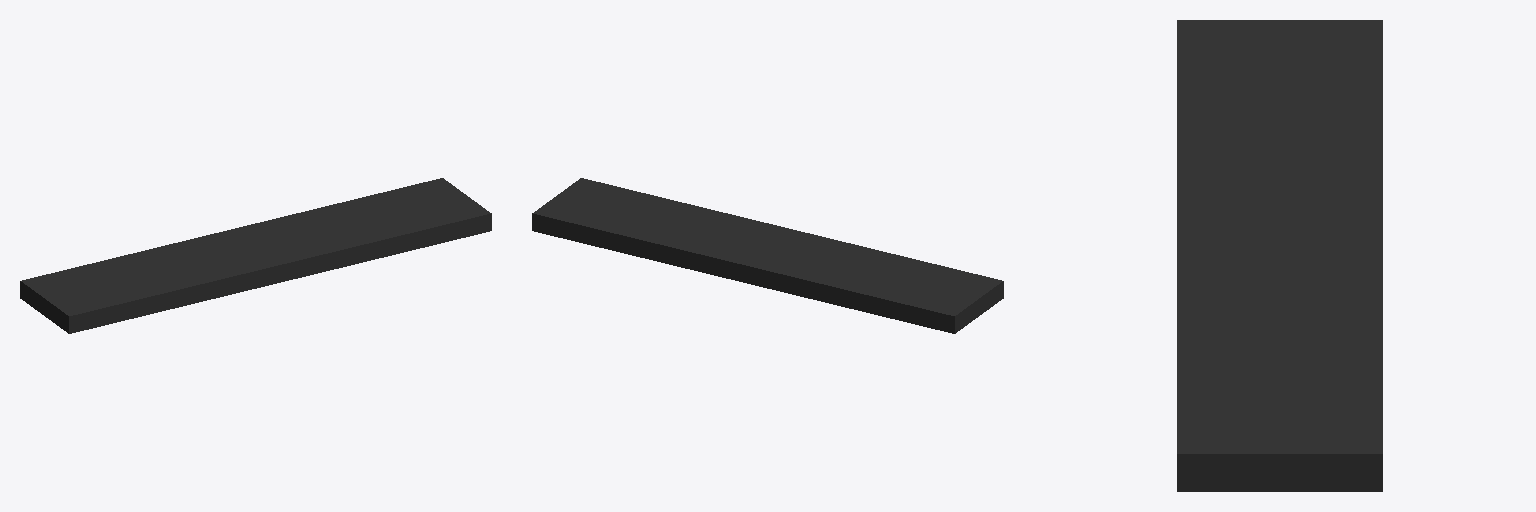
URDF robot description (wall):
<robot name="wall">
  <link name="baseLink">
   
    <inertial>
      <origin rpy="0 0 0" xyz="0 0 0" />
       <mass value="10" />
       <inertia ixx="0" ixy="0" ixz="0" iyy="0" iyz="0" izz="0" />
    </inertial>
    <visual>
      <origin rpy="0 0 0" xyz="0 0 0" />
      <geometry>
			  <box size="5 1 0.2" />
      </geometry>
       <material name="grey">
        <color rgba="0.24 0.24 0.24 1" />
      </material>
    </visual>
    <collision>
      <origin rpy="0 0 0" xyz="0 0 0" />
      <geometry>
	 	      <box size="5 1 0.2" />
      </geometry>
    </collision>
  </link>
</robot>

--- Facts derived from the render (not from the file) ---
3 views of the same robot in one strip: view 1: azimuth 30°, elevation 25°; view 2: azimuth 150°, elevation 25°; view 3: azimuth 270°, elevation 25° (orthographic).
Robot: wall — 1 links, 0 joints (none); root link baseLink; default pose: all joints at 0.
Links seen in each view (by area): view 1: baseLink; view 2: baseLink; view 3: baseLink.
Link boxes in pixels (left/top/right/bottom): baseLink: left=20, top=178, right=491, bottom=333; baseLink: left=532, top=178, right=1003, bottom=333; baseLink: left=1177, top=20, right=1382, bottom=491.
Size in the robot's own frame: 5 by 1 by 0.2 metres.
Geometry: primitives only (box / cylinder / sphere), no mesh files.
